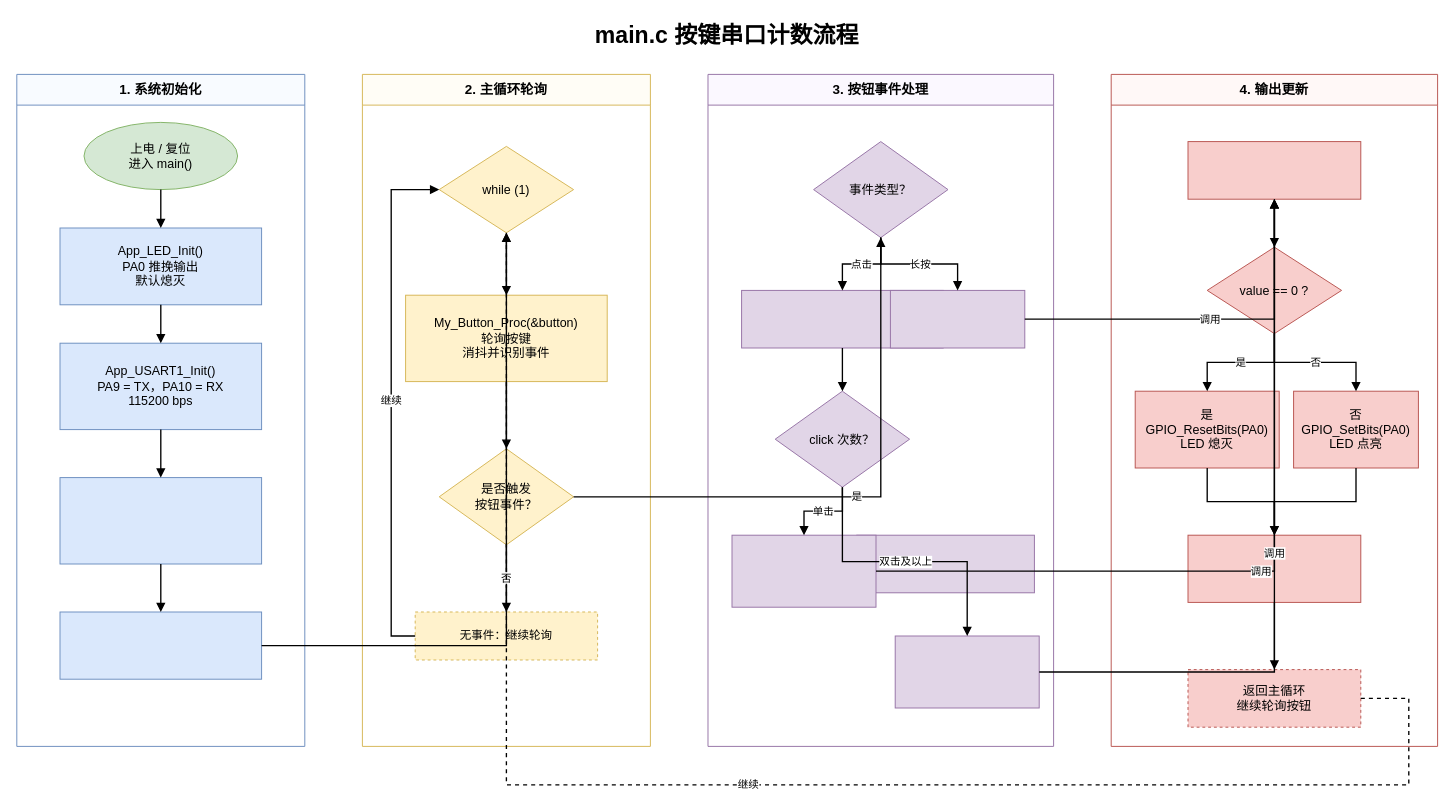
The diagram is 1454 pixels wide and 809 high, and some of its shapes have lost their labels. Here are the shapes that lost their labels. From the top down, the centre of each, then its label:
At [1274,170]: "App_SendValue()".
At [842,318]: "button_clicked_cb(click)".
At [957,318]: "长按触发 value++".
At [160,520]: "App_Button_Init() PA1 按钮 绑定点击 / 长按回调".
At [803,570]: "单击 click == 1 value++".
At [945,563]: "button_long_pressed_cb(click)".
At [1274,568]: "My_USART_Printf() 输出 value 数字".
At [160,645]: "App_SendValue() 发送初始 value = 0".
At [966,671]: "双击及以上 click >= 2 value = 0".
